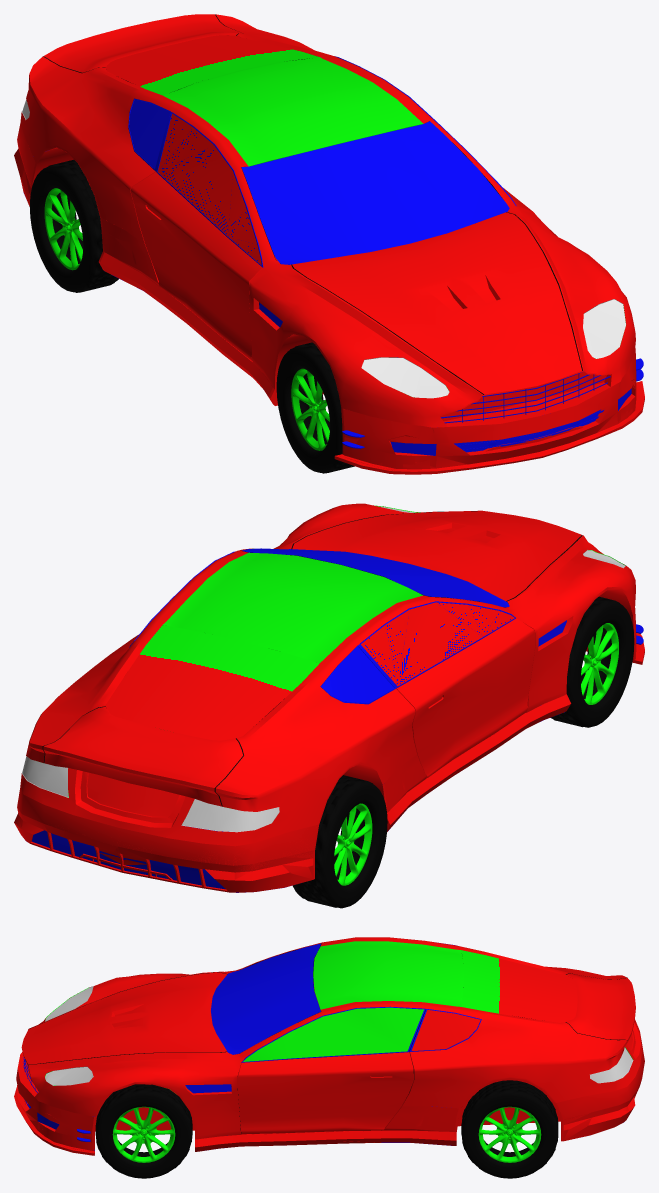
Rendered from coupe-gt-lod0.glb.
3 renders of one model, top to bottom at view 1: azimuth 30°, elevation 25°; view 2: azimuth 150°, elevation 25°; view 3: azimuth 270°, elevation 25°, orthographic. The views are drawn at different scales.
Visible parts, largest first — view 1: body, glass_a, door_r_front, Wheel.002, bumper_front_c, Wheel.003, bumper_front_b, glass_c, glass_door_r, skirt_c, bumper_front_a, skirt_b; view 2: body, glass_c, door_r_front, Wheel.002, bumper_rear_a, Wheel.003, glass_door_r, bumper_rear_b, glass_a, skirt_c, bumper_rear_c; view 3: body, door_l_front, glass_a, Wheel.001, Wheel, glass_c, glass_door_l, skirt_c, bumper_front_c, bumper_rear_a, bumper_rear_b, skirt_b (+4 smaller).
Part boxes in pixels (box(x1,y1,x2,y2)): body: box(20, 14, 635, 427); glass_a: box(241, 121, 509, 264); door_r_front: box(130, 112, 263, 360); Wheel.002: box(29, 159, 118, 292); bumper_front_c: box(334, 348, 644, 474); Wheel.003: box(276, 342, 354, 473); bumper_front_b: box(338, 371, 640, 470); glass_c: box(105, 35, 319, 95); glass_door_r: box(157, 113, 261, 264); skirt_c: box(98, 217, 274, 405); bumper_front_a: box(352, 349, 635, 469); skirt_b: box(104, 219, 274, 405); body: box(20, 503, 635, 892); glass_c: box(105, 625, 319, 740); door_r_front: box(359, 601, 535, 777); Wheel.002: box(293, 775, 387, 908); bumper_rear_a: box(17, 787, 318, 878); Wheel.003: box(550, 596, 634, 727); glass_door_r: box(361, 602, 514, 686); bumper_rear_b: box(14, 807, 317, 892); glass_a: box(241, 548, 509, 607); skirt_c: box(382, 694, 571, 831); bumper_rear_c: box(14, 814, 315, 892); body: box(17, 937, 642, 1150); door_l_front: box(237, 1006, 425, 1134); glass_a: box(211, 943, 321, 1054); Wheel.001: box(461, 1080, 558, 1178); Wheel: box(95, 1084, 192, 1178); glass_c: box(461, 950, 577, 1022); glass_door_l: box(243, 1007, 423, 1061); skirt_c: box(195, 1112, 456, 1151); bumper_front_c: box(14, 1074, 96, 1155); bumper_rear_a: box(555, 1036, 644, 1140); bumper_rear_b: box(557, 1080, 641, 1141); skirt_b: box(209, 1107, 460, 1146).
Bounding box in the file's own units: 2.15 × 1.45 × 5.16.
Materials: 7 (4 with a texture image).
